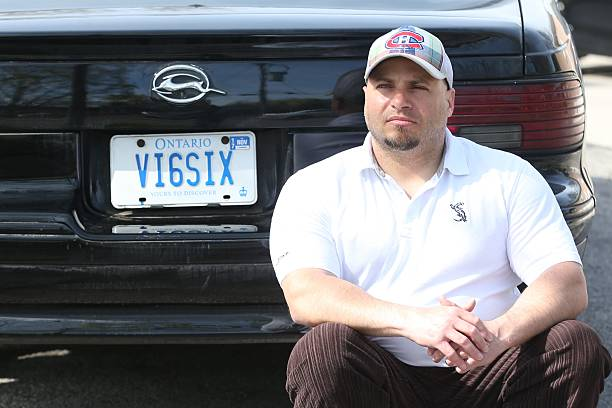licence: (105, 134, 263, 203)
